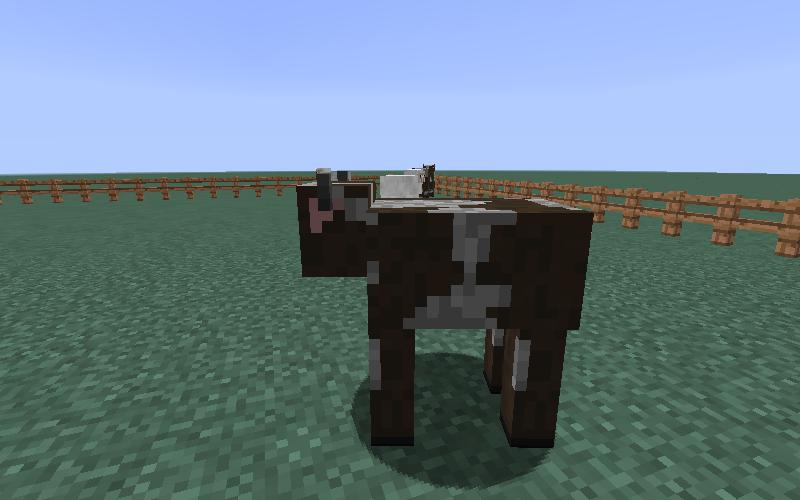cow: (294, 164, 599, 459)
sheep: (381, 170, 425, 199)
